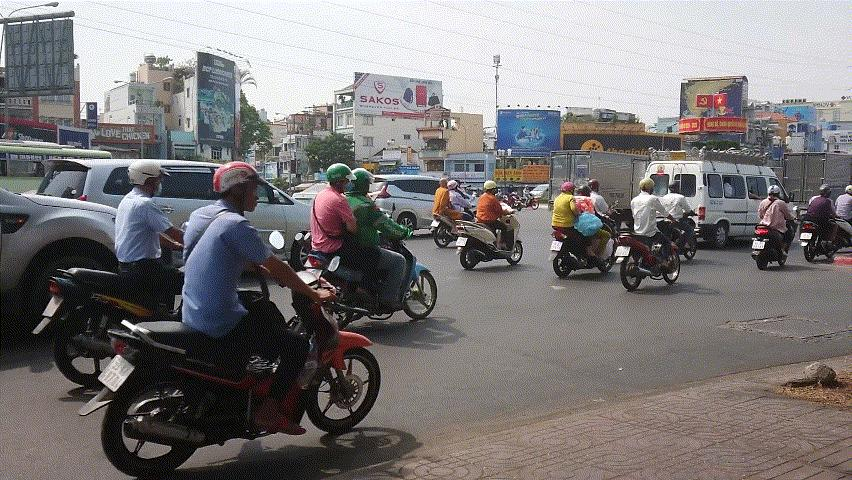driver: (80, 160, 381, 479), (30, 157, 184, 387), (294, 161, 439, 333), (614, 178, 681, 292), (546, 181, 619, 278), (455, 180, 523, 271), (750, 183, 800, 272), (799, 183, 843, 263), (430, 176, 476, 248)
helmet: (212, 160, 269, 217), (126, 159, 172, 201), (324, 161, 357, 195), (351, 167, 375, 196), (639, 177, 656, 196), (560, 181, 577, 196), (483, 180, 498, 196), (767, 184, 781, 200), (587, 178, 600, 194), (819, 184, 832, 199), (668, 180, 681, 193), (577, 185, 591, 197), (447, 180, 459, 192)
